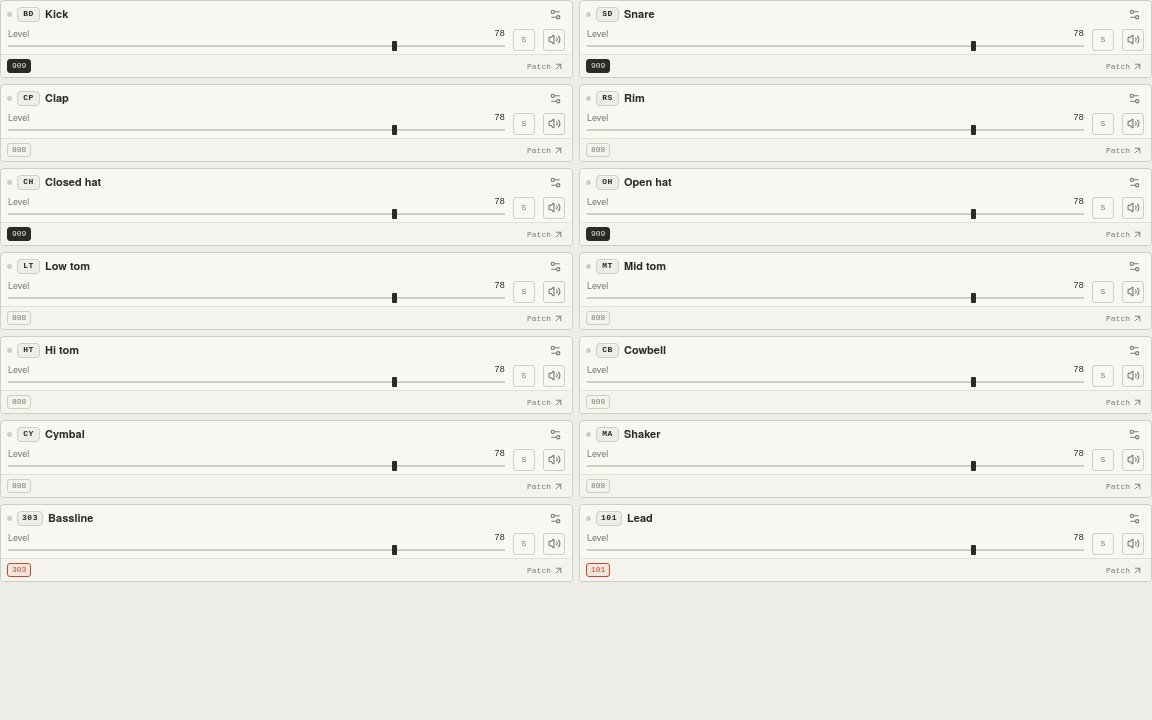
it: edits Kick tune and decay in settings while keeping level and mute on the card
Set the slider labelled "Level" below "Kick" to "63" at [319, 46], box [8,40,505,52]
Click the button named "Mute Kick voice" at [554, 40], box [543,28,565,50]
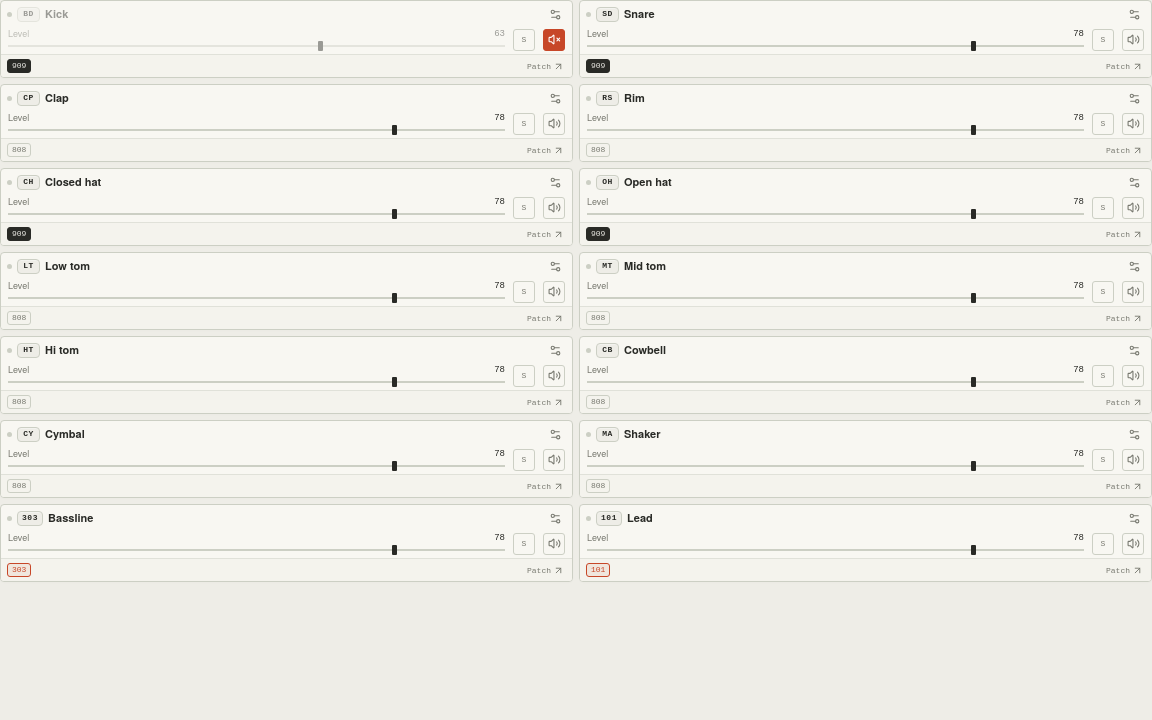
Click the button named "Configure" at [555, 14], box [544,3,566,25]
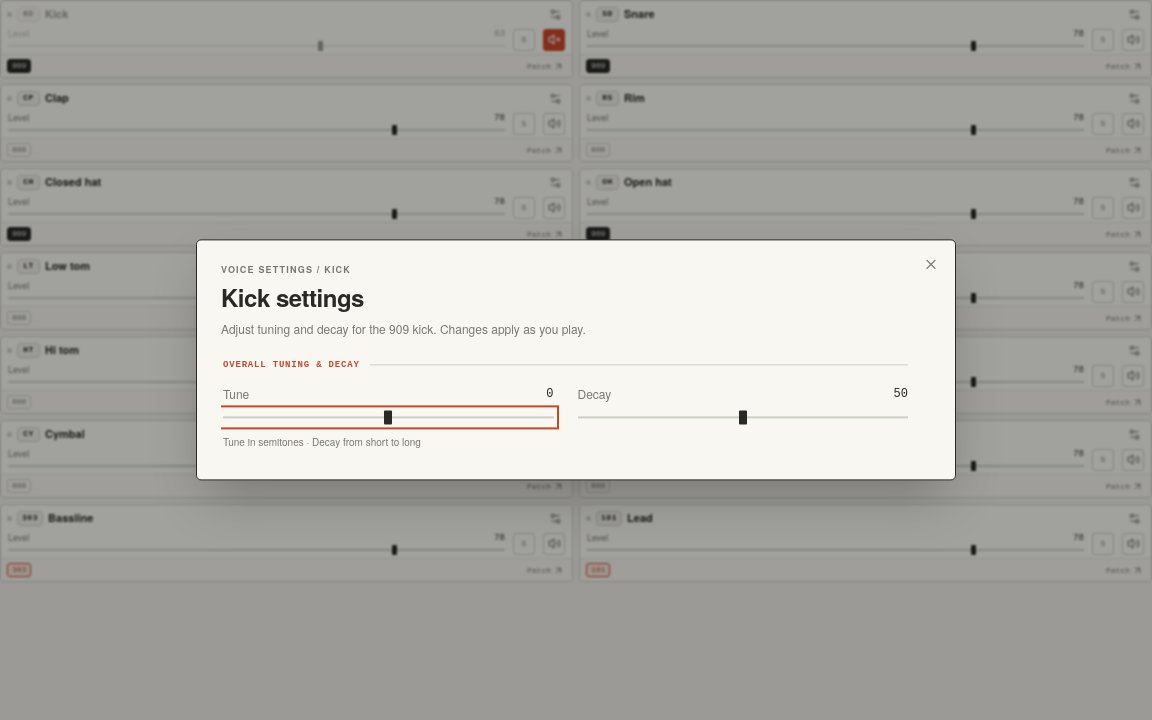
Set the slider named "Kick tune" to "7" at [480, 417], box [223,410,554,424]
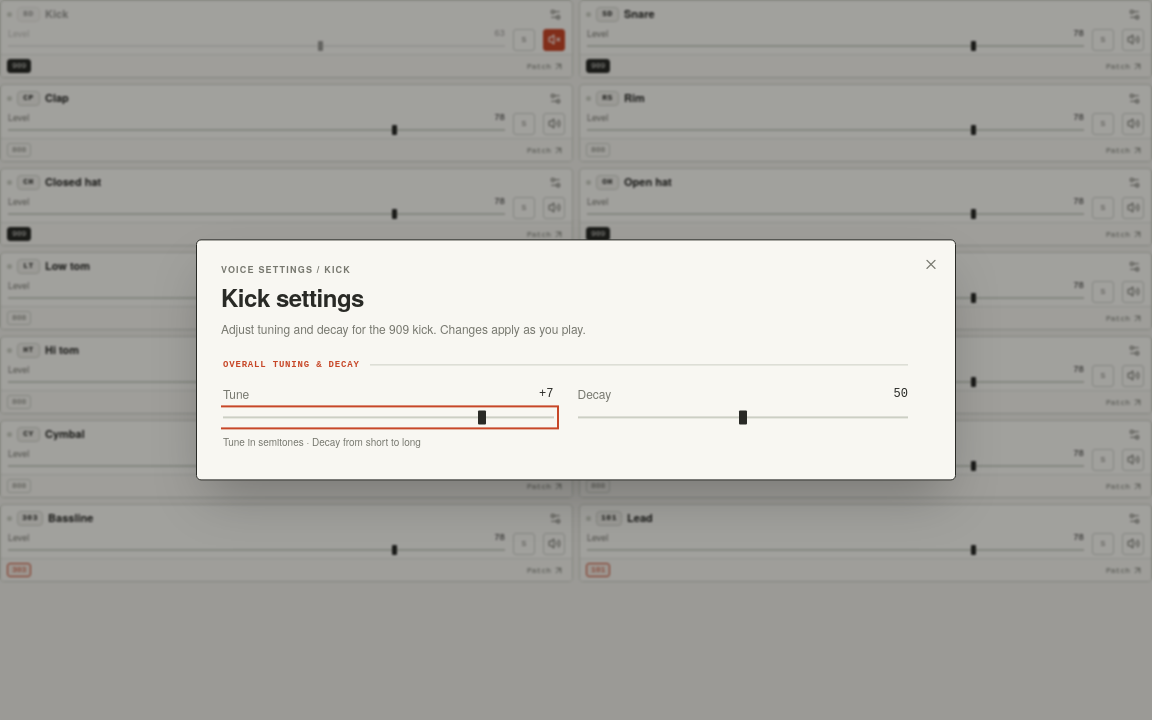
Set the slider named "Kick decay" to "31" at [683, 417], box [578,410,908,424]
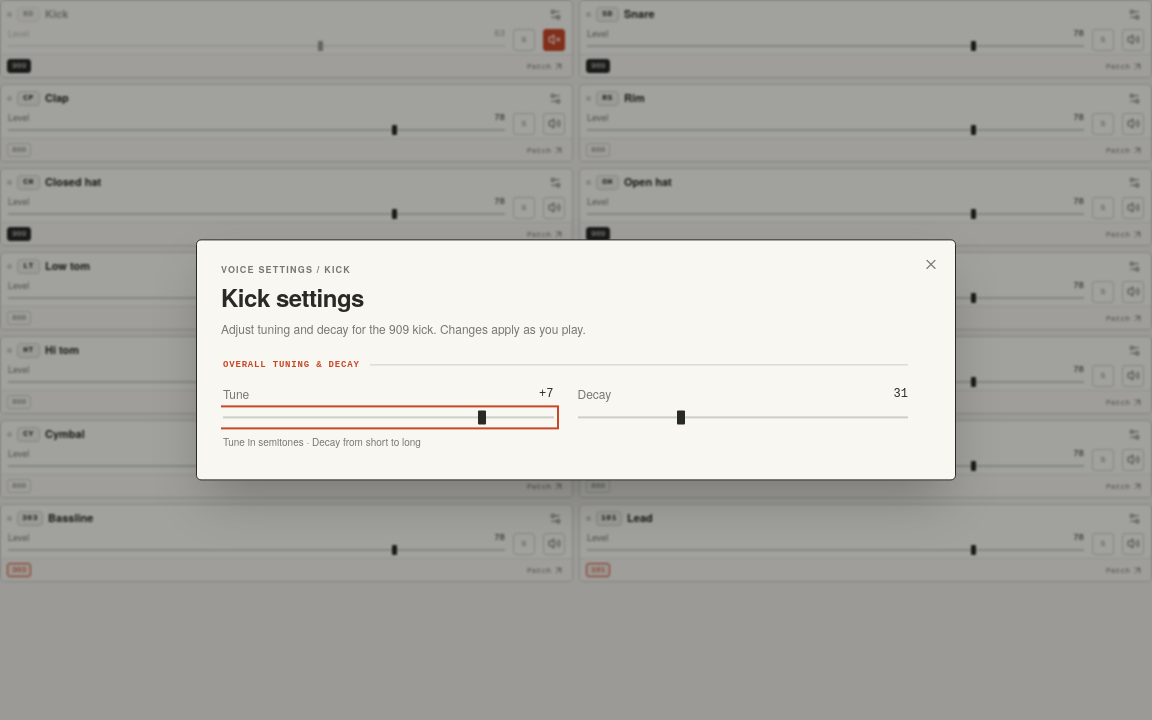
Press Escape in the dialog, box [196,239,956,481]
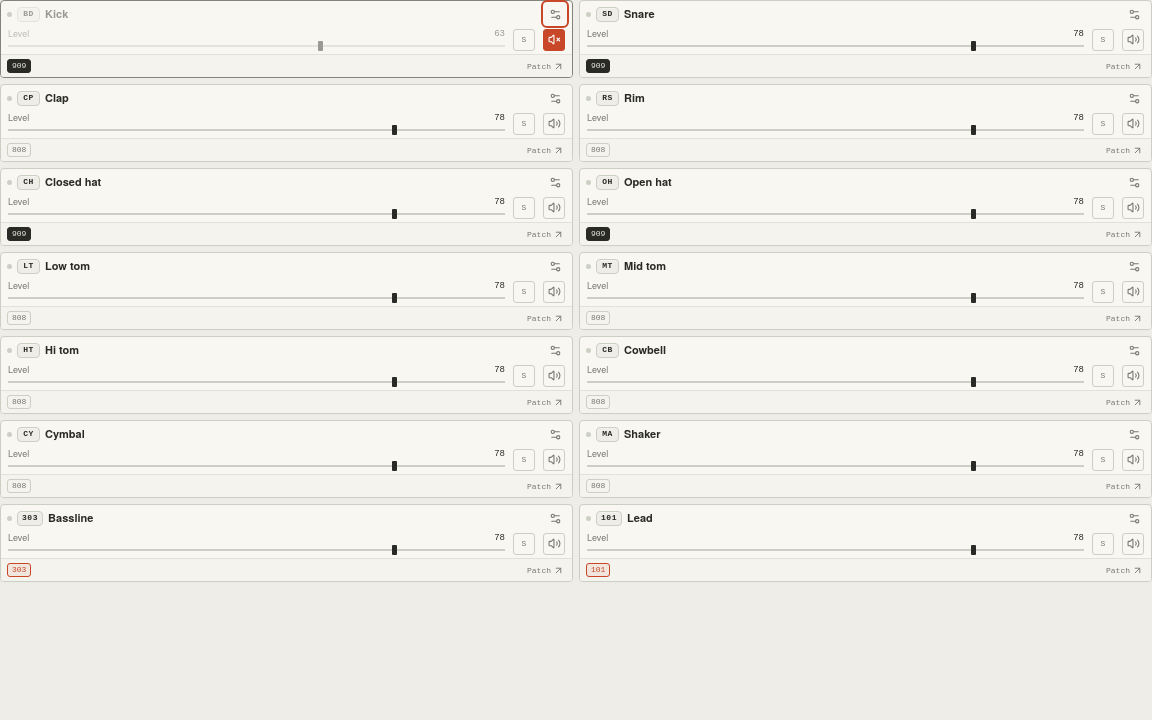
Now the button named "Unmute Kick voice" is pressed, box [543,28,565,50]
Click the button named "Configure" at [555, 14], box [544,3,566,25]
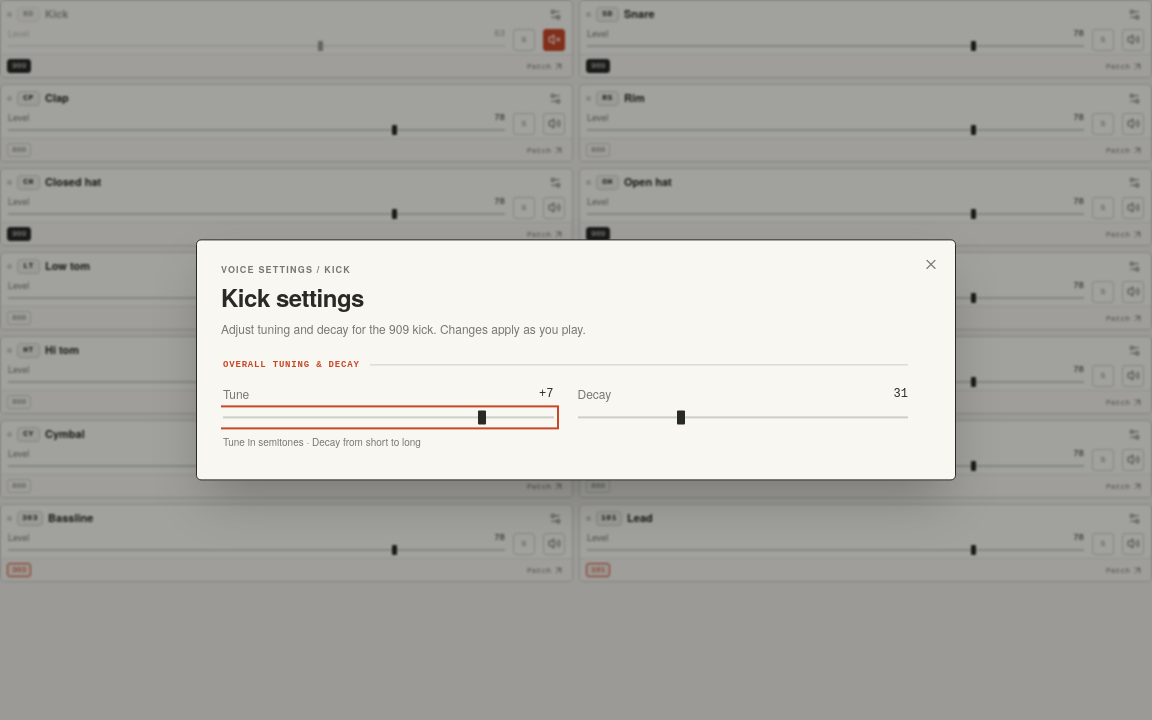
Now the slider named "Kick tune" holds "7", box [223,410,554,424]
Now the slider named "Kick decay" holds "31", box [578,410,908,424]
